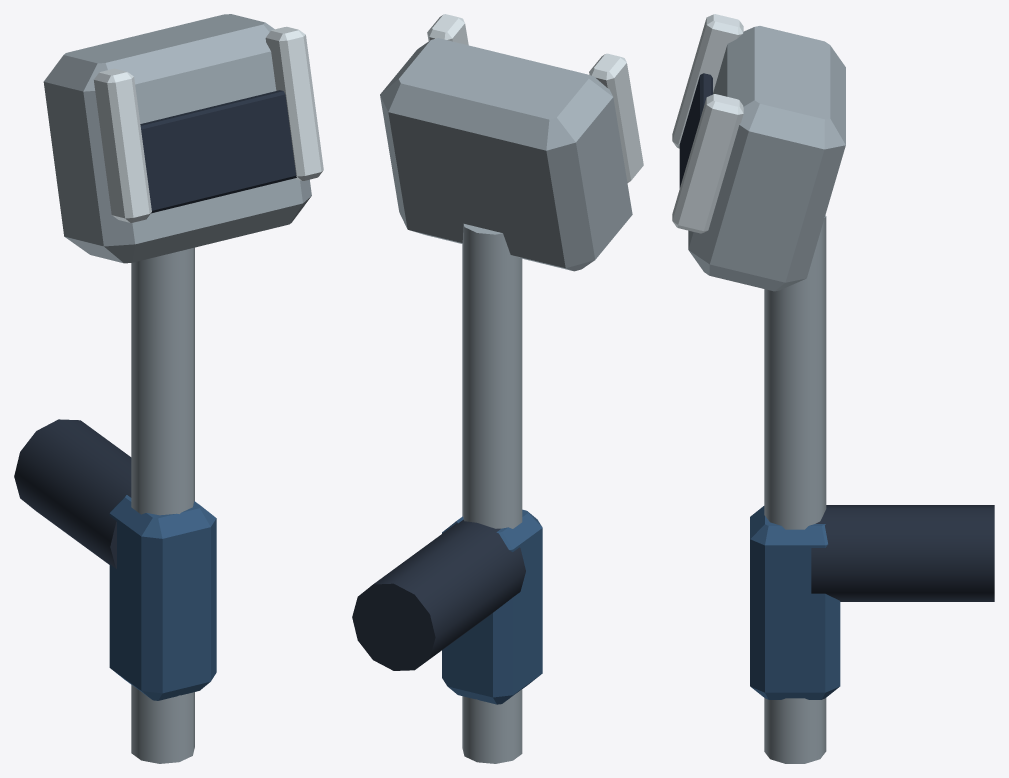
The model's file is sample_scoop.glb.
3 views of the same model, side by side, from view 1: azimuth 30°, elevation 25°; view 2: azimuth 150°, elevation 25°; view 3: azimuth 270°, elevation 25° (orthographic). The views are drawn at different scales.
Visible parts, largest first — view 1: sample_scoop_geo; view 2: sample_scoop_geo; view 3: sample_scoop_geo.
Boxes of the visible parts, left/top/right/bottom form: sample_scoop_geo: left=14, top=14, right=323, bottom=763; sample_scoop_geo: left=352, top=14, right=643, bottom=763; sample_scoop_geo: left=672, top=14, right=994, bottom=763.
Bounding box in the file's own units: 0.155 × 0.5187 × 0.2181.
